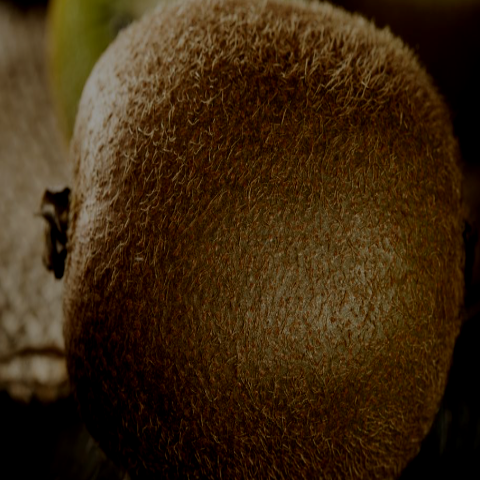kiwi: (19, 2, 480, 479)
